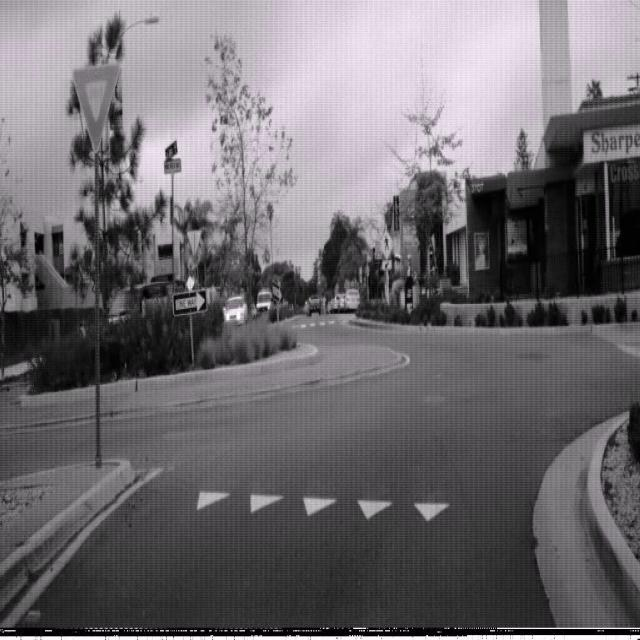pedestrianCrossing: (378, 227, 395, 260)
yield: (72, 62, 120, 154)
